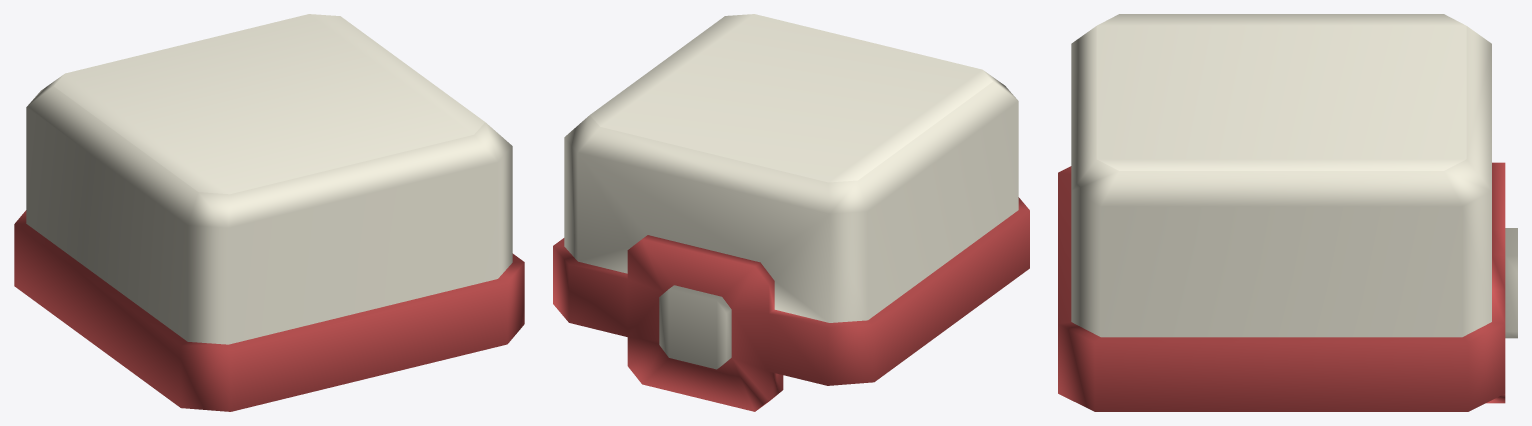
File: bdpremierballmodel_ballup_lev2_lev3.glb
3 views of the same model, side by side, from view 1: azimuth 30°, elevation 25°; view 2: azimuth 150°, elevation 25°; view 3: azimuth 270°, elevation 25° (orthographic). The views are drawn at different scales.
Visible parts, largest first — view 1: bdpremierballmodel_ballup_lev2_lev3; view 2: bdpremierballmodel_ballup_lev2_lev3; view 3: bdpremierballmodel_ballup_lev2_lev3.
Boxes of the visible parts, left/top/right/bottom form: bdpremierballmodel_ballup_lev2_lev3: left=14, top=14, right=524, bottom=411; bdpremierballmodel_ballup_lev2_lev3: left=553, top=14, right=1029, bottom=411; bdpremierballmodel_ballup_lev2_lev3: left=1058, top=14, right=1517, bottom=411.
Size of the model in its own units: 2.09 by 1.44 by 2.16.
1 material, 1 textured.
